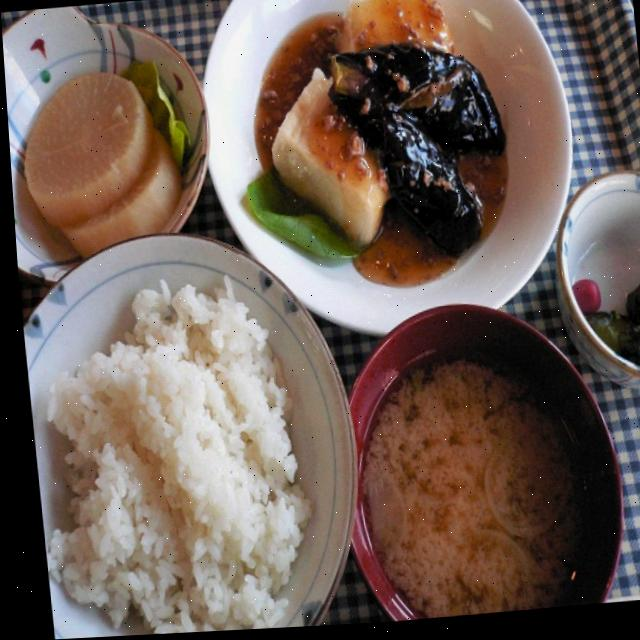鸡蛋料理: (246, 0, 541, 278)
